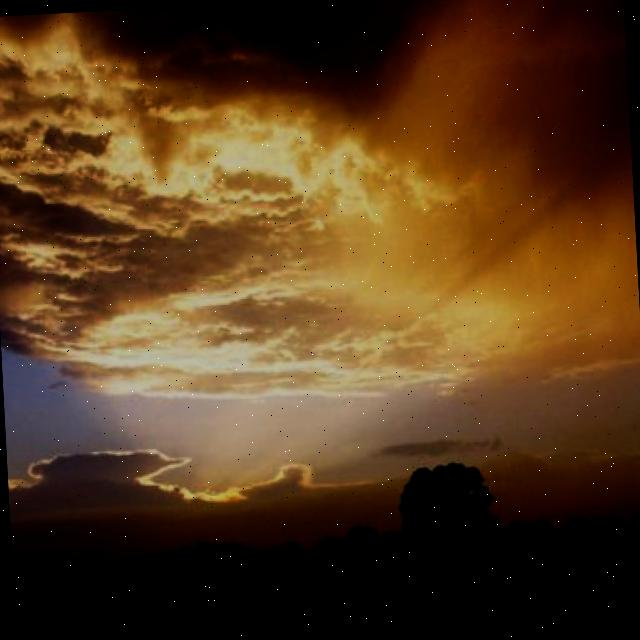Cb: (1, 1, 640, 360)
